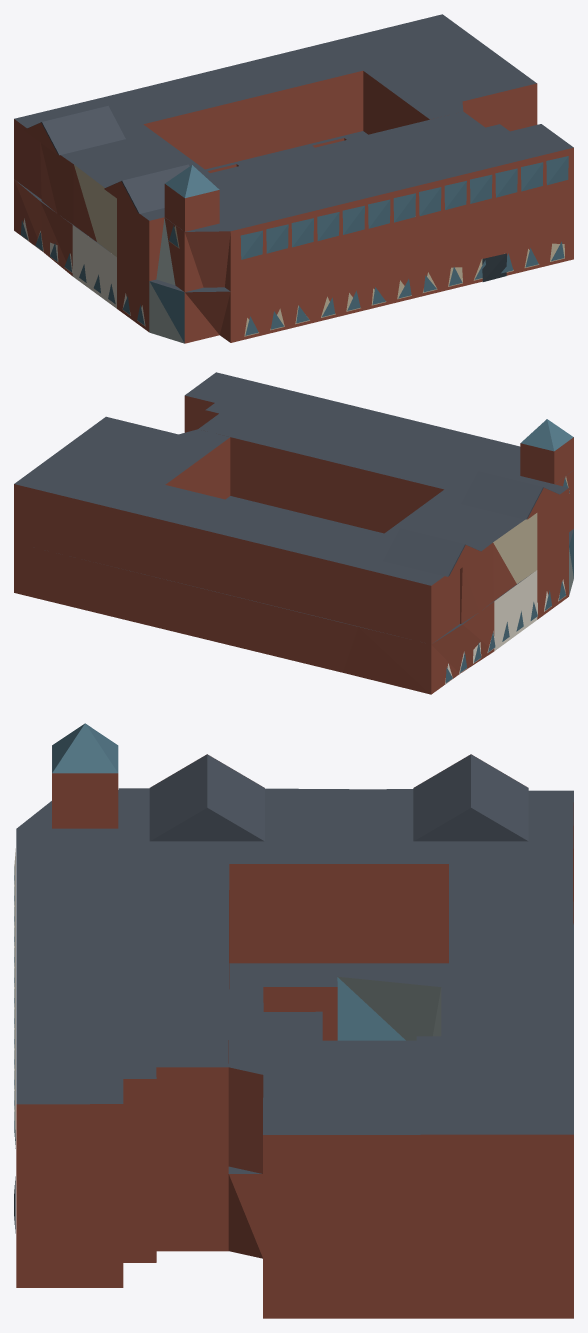
The model's file is studiok.lod2.glb.
The picture shows the model from 3 angles, top to bottom: view 1: azimuth 30°, elevation 25°; view 2: azimuth 150°, elevation 25°; view 3: azimuth 270°, elevation 25°; orthographic projection. The views are drawn at different scales.
Parts seen in each view (by area): view 1: lod2; view 2: lod2; view 3: lod2.
Boxes of the visible parts, bbox=[...] form: lod2: bbox=[14, 14, 573, 343]; lod2: bbox=[14, 372, 573, 694]; lod2: bbox=[14, 723, 573, 1318].
Bounding box in the file's own units: 74.77 × 27.61 × 50.94.
